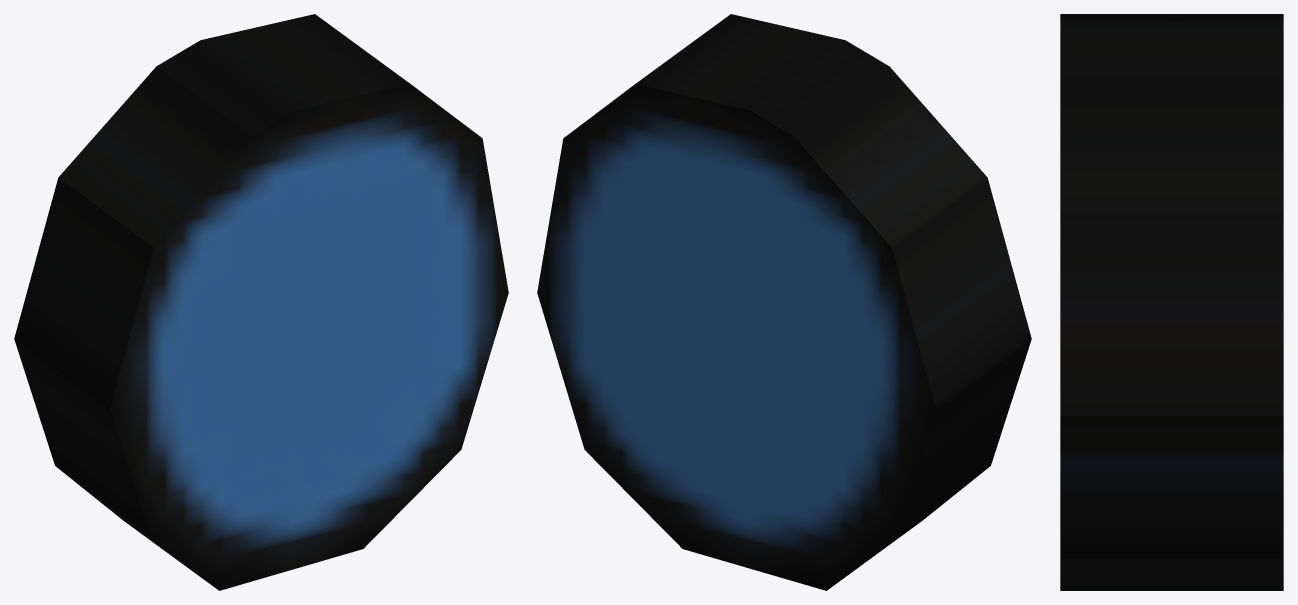
The model's file is Ratto_hand.fbx.
3 renders of one model, left to right at view 1: azimuth 30°, elevation 25°; view 2: azimuth 150°, elevation 25°; view 3: azimuth 270°, elevation 25°, orthographic. The views are drawn at different scales.
Parts seen in each view (by area): view 1: polySurface71; view 2: polySurface71; view 3: polySurface71.
Boxes of the visible parts, left/top/right/bottom form: polySurface71: left=14, top=14, right=508, bottom=590; polySurface71: left=537, top=14, right=1031, bottom=590; polySurface71: left=1060, top=14, right=1283, bottom=590.
Size of the model in its own units: 0.0933 by 0.1032 by 0.0388.
